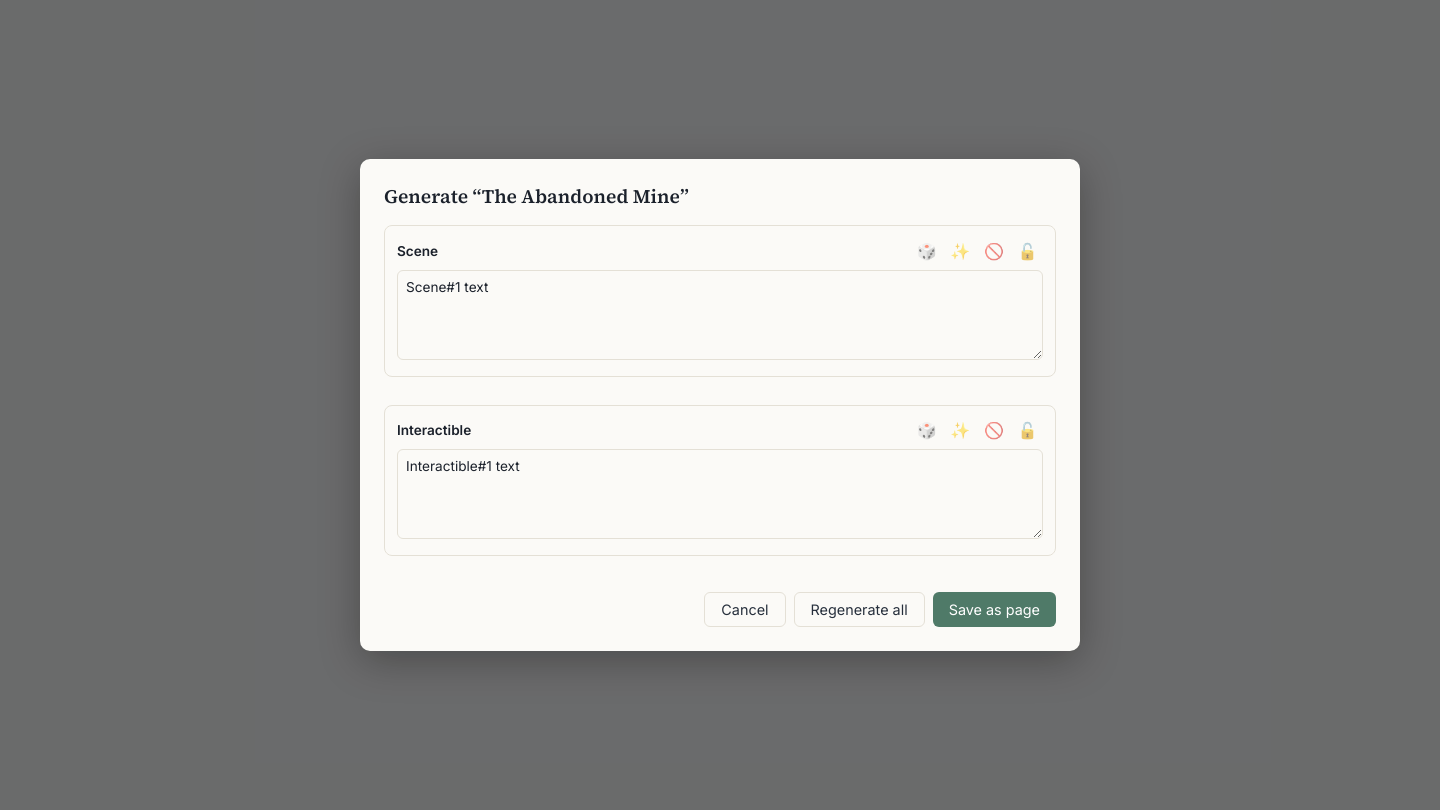
Test: AiTemplatePanel › Forget rejects the entry and immediately draws a replacement
Expected: the text box named "Interactible#1" is not empty, 397,449 -> 1043,539
Click the button named "Forget this entry" at [994, 251], box 978,238 -> 1010,263
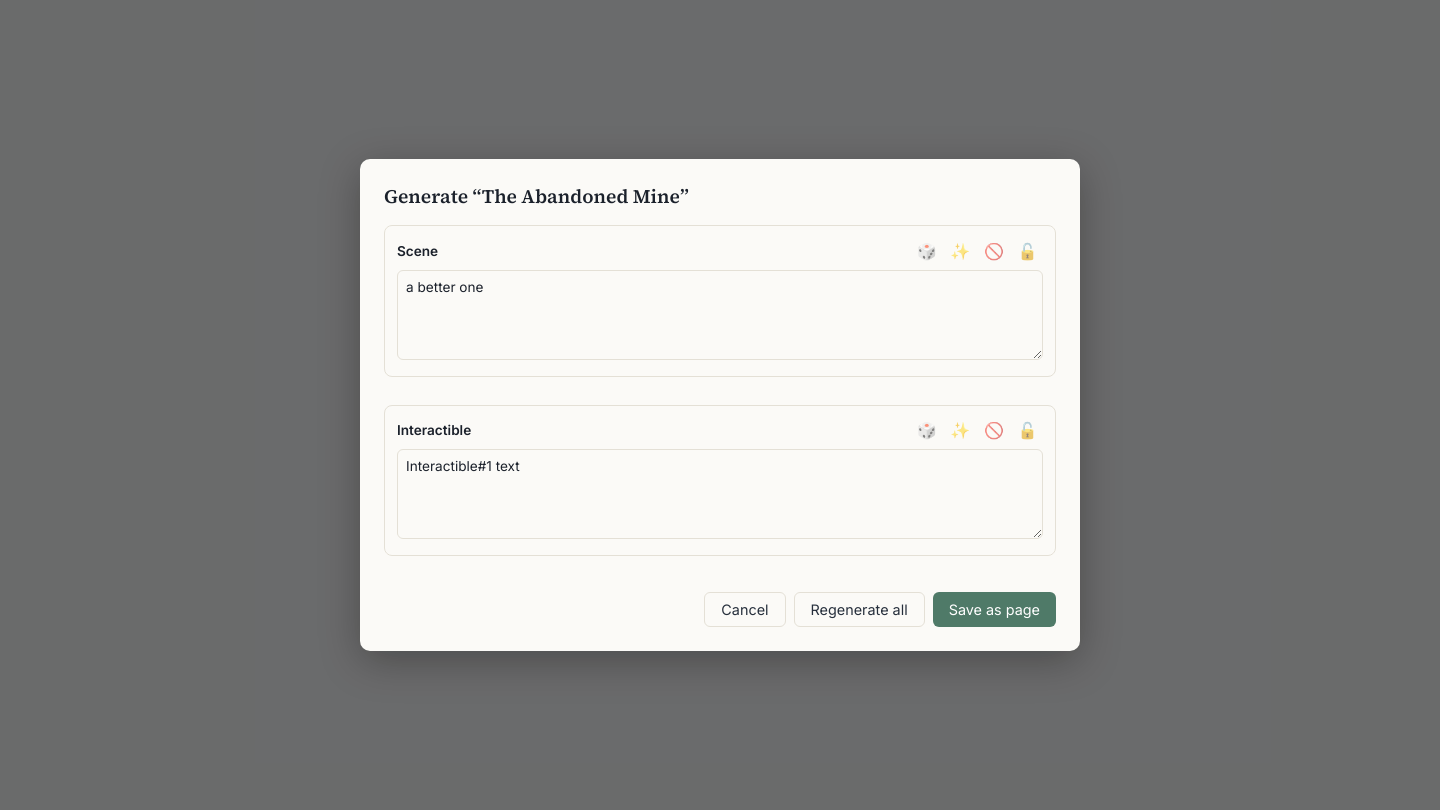
Expected: the text box named "Scene#1" holds "a better one", 397,270 -> 1043,360
